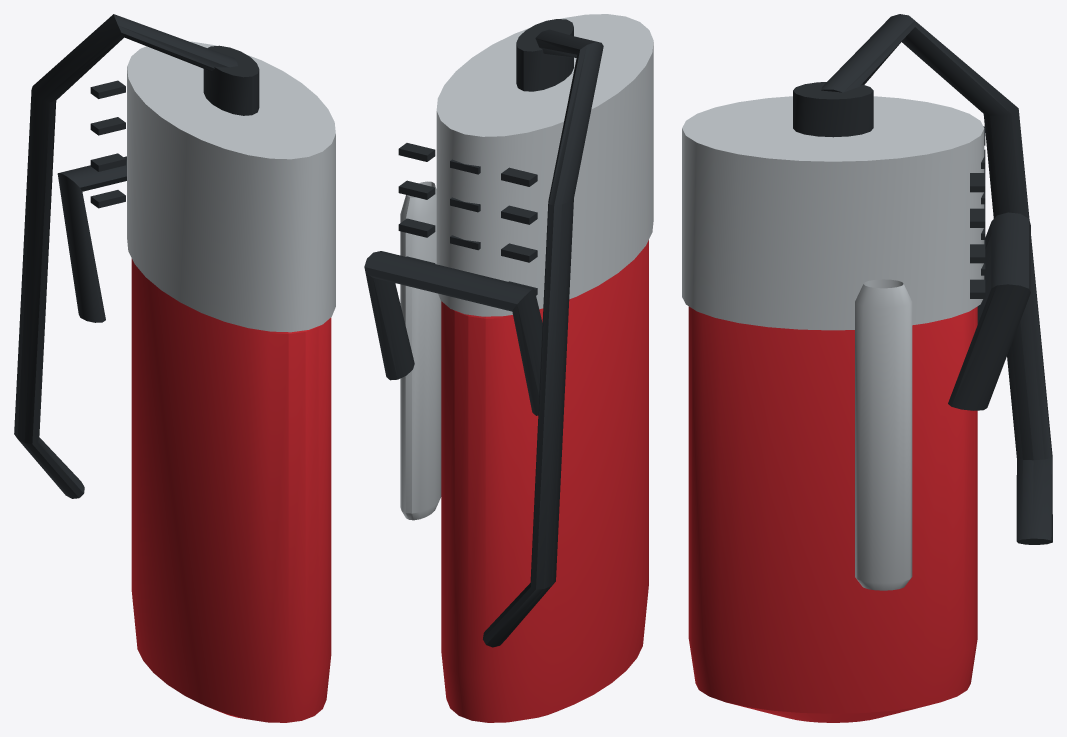
The model's file is ob_high_pressure_extinguisher.glb.
3 views of the same model, side by side, from view 1: azimuth 30°, elevation 25°; view 2: azimuth 150°, elevation 25°; view 3: azimuth 270°, elevation 25° (orthographic). The views are drawn at different scales.
Visible parts, largest first — view 1: ob_high_pressure_extinguisher; view 2: ob_high_pressure_extinguisher; view 3: ob_high_pressure_extinguisher.
Part boxes in pixels (bbox=[...]): ob_high_pressure_extinguisher: bbox=[14, 14, 335, 722]; ob_high_pressure_extinguisher: bbox=[364, 14, 653, 722]; ob_high_pressure_extinguisher: bbox=[682, 14, 1052, 722].
Size of the model in its own units: 0.29 by 0.86 by 0.44.
